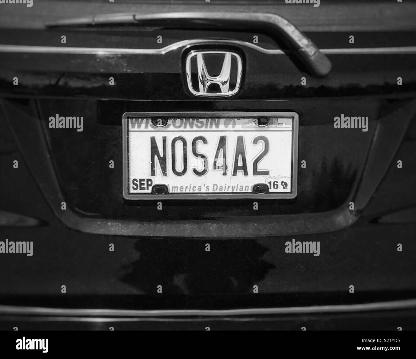license plate: (116, 106, 306, 207)
